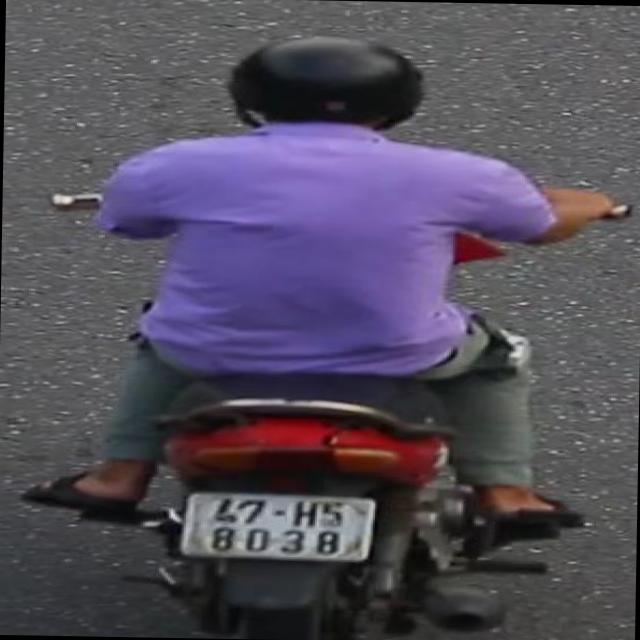LP: (174, 488, 380, 564)
helmet: (234, 29, 436, 150)
